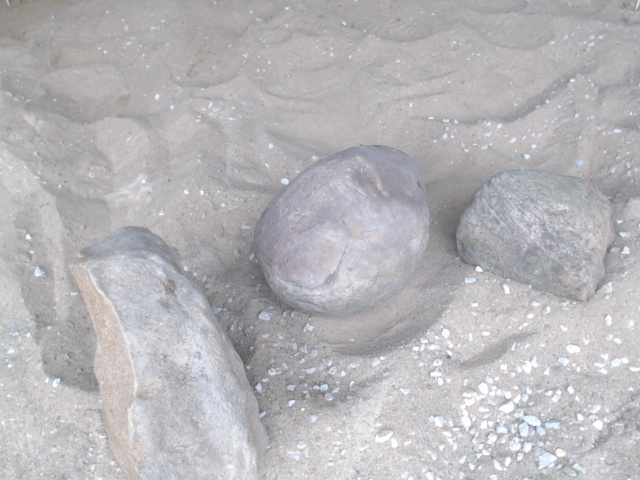rock: (64, 220, 276, 480), (248, 137, 437, 323), (449, 161, 623, 309)
